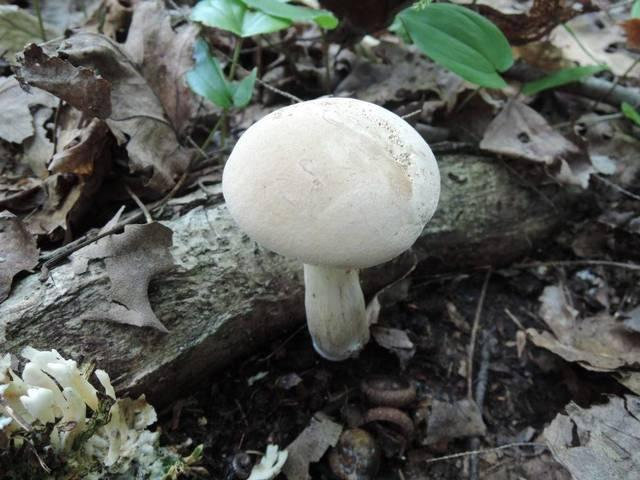Edible Mushroom: (220, 94, 441, 361)
